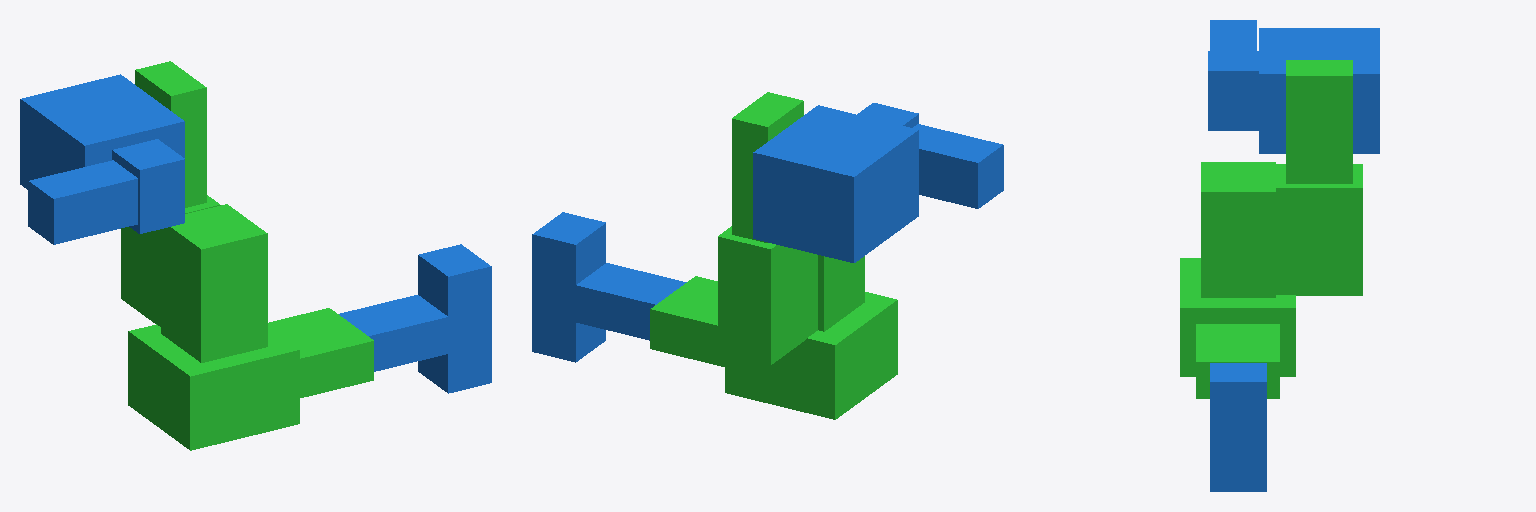
robot.urdf — robot:
<robot name = "robot">
    <link name="Link0">
        <inertial>
            <origin xyz="0 0 2" rpy="0 0 0"/>
            <mass value="0.20076288972879314" />
            <inertia ixx="100" ixy="0" ixz="0" iyy="100" iyz="0" izz="100" />
        </inertial>
        <visual>
            <origin xyz="0 0 2" rpy="0 0 0"/>
            <geometry>
                <box size="0.9125490004394449 0.46709046387190056 0.471005787567951" />
            </geometry>
            <material name="No Sensor">
                <color rgba="0.184 0.553 0.933 1.0"/>
            </material>
        </visual>
        <collision>
            <origin xyz="0 0 2" rpy="0 0 0"/>
            <geometry>
                <box size="0.9125490004394449 0.46709046387190056 0.471005787567951" />
            </geometry>
        </collision>
    </link>
    <joint name="Link0_Link1" type="revolute">
       <parent link="Link0"/>
       <child  link="Link1"/>
       <origin rpy="0 0 0" xyz="0.45627450021972243 0 2" />
       <axis xyz="1 0 0"/>
       <limit effort="0.0" lower="-3.14159" upper="3.14159" velocity="0.0"/>
    </joint>
    <link name="Link1">
        <inertial>
            <origin xyz="0.24622838620883442 0 0" rpy="0 0 0"/>
            <mass value="0.16684982083417946" />
            <inertia ixx="100" ixy="0" ixz="0" iyy="100" iyz="0" izz="100" />
        </inertial>
        <visual>
            <origin xyz="0.24622838620883442 0 0" rpy="0 0 0"/>
            <geometry>
                <box size="0.49245677241766883 0.5145883170240357 0.6584119555984481" />
            </geometry>
            <material name="No Sensor">
                <color rgba="0.184 0.553 0.933 1.0"/>
            </material>
        </visual>
        <collision>
            <origin xyz="0.24622838620883442 0 0" rpy="0 0 0"/>
            <geometry>
                <box size="0.49245677241766883 0.5145883170240357 0.6584119555984481" />
            </geometry>
        </collision>
    </link>
    <joint name="Link1_Link2" type="revolute">
       <parent link="Link1"/>
       <child  link="Link2"/>
       <origin rpy="0 0 0" xyz="0.24622838620883442 0.25729415851201787 0.0" />
       <axis xyz="1 0 0"/>
       <limit effort="0.0" lower="-3.14159" upper="3.14159" velocity="0.0"/>
    </joint>
    <link name="Link2">
        <inertial>
            <origin xyz="0.0 0.598709777096351 0.0" rpy="0 0 0"/>
            <mass value="1.1398277739824194" />
            <inertia ixx="100" ixy="0" ixz="0" iyy="100" iyz="0" izz="100" />
        </inertial>
        <visual>
            <origin xyz="0.0 0.598709777096351 0.0" rpy="0 0 0"/>
            <geometry>
                <box size="1.0786954482179012 1.197419554192702 0.8824579967325411" />
            </geometry>
            <material name="No Sensor">
                <color rgba="0.184 0.553 0.933 1.0"/>
            </material>
        </visual>
        <collision>
            <origin xyz="0.0 0.598709777096351 0.0" rpy="0 0 0"/>
            <geometry>
                <box size="1.0786954482179012 1.197419554192702 0.8824579967325411" />
            </geometry>
        </collision>
    </link>
    <joint name="Link2_Link3" type="revolute">
       <parent link="Link2"/>
       <child  link="Link3"/>
       <origin rpy="0 0 0" xyz="0.5393477241089506 0.598709777096351 0.0" />
       <axis xyz="1 0 0"/>
       <limit effort="0.0" lower="-3.14159" upper="3.14159" velocity="0.0"/>
    </joint>
    <link name="Link3">
        <inertial>
            <origin xyz="0.19236956824011125 0.0 0.0" rpy="0 0 0"/>
            <mass value="0.30576621328559805" />
            <inertia ixx="100" ixy="0" ixz="0" iyy="100" iyz="0" izz="100" />
        </inertial>
        <visual>
            <origin xyz="0.19236956824011125 0.0 0.0" rpy="0 0 0"/>
            <geometry>
                <box size="0.3847391364802225 0.6699934526833755 1.1861853889098444" />
            </geometry>
            <material name="Sensor">
                <color rgba="0.239 0.875 0.282 1.0"/>
            </material>
        </visual>
        <collision>
            <origin xyz="0.19236956824011125 0.0 0.0" rpy="0 0 0"/>
            <geometry>
                <box size="0.3847391364802225 0.6699934526833755 1.1861853889098444" />
            </geometry>
        </collision>
    </link>
    <joint name="Link3_Link4" type="revolute">
       <parent link="Link3"/>
       <child  link="Link4"/>
       <origin rpy="0 0 0" xyz="0.19236956824011125 0.0 -0.5930926944549222" />
       <axis xyz="0 1 0"/>
       <limit effort="0.0" lower="-3.14159" upper="3.14159" velocity="0.0"/>
    </joint>
    <link name="Link4">
        <inertial>
            <origin xyz="0.0 0.0 -0.5925668236380905" rpy="0 0 0"/>
            <mass value="0.5877827830788648" />
            <inertia ixx="100" ixy="0" ixz="0" iyy="100" iyz="0" izz="100" />
        </inertial>
        <visual>
            <origin xyz="0.0 0.0 -0.5925668236380905" rpy="0 0 0"/>
            <geometry>
                <box size="0.5705442753283897 0.8692809860477866 1.185133647276181" />
            </geometry>
            <material name="Sensor">
                <color rgba="0.239 0.875 0.282 1.0"/>
            </material>
        </visual>
        <collision>
            <origin xyz="0.0 0.0 -0.5925668236380905" rpy="0 0 0"/>
            <geometry>
                <box size="0.5705442753283897 0.8692809860477866 1.185133647276181" />
            </geometry>
        </collision>
    </link>
    <joint name="Link4_Link5" type="revolute">
       <parent link="Link4"/>
       <child  link="Link5"/>
       <origin rpy="0 0 0" xyz="0.0 -0.4346404930238933 -0.5925668236380905" />
       <axis xyz="1 0 0"/>
       <limit effort="0.0" lower="-3.14159" upper="3.14159" velocity="0.0"/>
    </joint>
    <link name="Link5">
        <inertial>
            <origin xyz="0.0 -0.37519952705842213 0.0" rpy="0 0 0"/>
            <mass value="0.6232589241955272" />
            <inertia ixx="100" ixy="0" ixz="0" iyy="100" iyz="0" izz="100" />
        </inertial>
        <visual>
            <origin xyz="0.0 -0.37519952705842213 0.0" rpy="0 0 0"/>
            <geometry>
                <box size="0.7106823360458484 0.7503990541168443 1.1686937097536678" />
            </geometry>
            <material name="Sensor">
                <color rgba="0.239 0.875 0.282 1.0"/>
            </material>
        </visual>
        <collision>
            <origin xyz="0.0 -0.37519952705842213 0.0" rpy="0 0 0"/>
            <geometry>
                <box size="0.7106823360458484 0.7503990541168443 1.1686937097536678" />
            </geometry>
        </collision>
    </link>
    <joint name="Link5_Link6" type="revolute">
       <parent link="Link5"/>
       <child  link="Link6"/>
       <origin rpy="0 0 0" xyz="0.0 -0.37519952705842213 -0.5843468548768339" />
       <axis xyz="1 0 0"/>
       <limit effort="0.0" lower="-3.14159" upper="3.14159" velocity="0.0"/>
    </joint>
    <link name="Link6">
        <inertial>
            <origin xyz="0.0 0.0 -0.381817265338922" rpy="0 0 0"/>
            <mass value="1.0401395883829938" />
            <inertia ixx="100" ixy="0" ixz="0" iyy="100" iyz="0" izz="100" />
        </inertial>
        <visual>
            <origin xyz="0.0 0.0 -0.381817265338922" rpy="0 0 0"/>
            <geometry>
                <box size="1.1798235710096754 1.154486873389572 0.763634530677844" />
            </geometry>
            <material name="Sensor">
                <color rgba="0.239 0.875 0.282 1.0"/>
            </material>
        </visual>
        <collision>
            <origin xyz="0.0 0.0 -0.381817265338922" rpy="0 0 0"/>
            <geometry>
                <box size="1.1798235710096754 1.154486873389572 0.763634530677844" />
            </geometry>
        </collision>
    </link>
    <joint name="Link6_Link7" type="revolute">
       <parent link="Link6"/>
       <child  link="Link7"/>
       <origin rpy="0 0 0" xyz="0.5899117855048377 0.0 -0.381817265338922" />
       <axis xyz="1 0 0"/>
       <limit effort="0.0" lower="-3.14159" upper="3.14159" velocity="0.0"/>
    </joint>
    <link name="Link7">
        <inertial>
            <origin xyz="0.4449056252976018 0.0 0.0" rpy="0 0 0"/>
            <mass value="0.30496472227048166" />
            <inertia ixx="100" ixy="0" ixz="0" iyy="100" iyz="0" izz="100" />
        </inertial>
        <visual>
            <origin xyz="0.4449056252976018 0.0 0.0" rpy="0 0 0"/>
            <geometry>
                <box size="0.8898112505952036 0.8390061758781516 0.40849481992782133" />
            </geometry>
            <material name="Sensor">
                <color rgba="0.239 0.875 0.282 1.0"/>
            </material>
        </visual>
        <collision>
            <origin xyz="0.4449056252976018 0.0 0.0" rpy="0 0 0"/>
            <geometry>
                <box size="0.8898112505952036 0.8390061758781516 0.40849481992782133" />
            </geometry>
        </collision>
    </link>
    <joint name="Link7_Link8" type="revolute">
       <parent link="Link7"/>
       <child  link="Link8"/>
       <origin rpy="0 0 0" xyz="0.8898112505952036 0.0 0.0" />
       <axis xyz="0 1 0"/>
       <limit effort="0.0" lower="-3.14159" upper="3.14159" velocity="0.0"/>
    </joint>
    <link name="Link8">
        <inertial>
            <origin xyz="0.43672450219073455 0.0 0.0" rpy="0 0 0"/>
            <mass value="0.18927067700970485" />
            <inertia ixx="100" ixy="0" ixz="0" iyy="100" iyz="0" izz="100" />
        </inertial>
        <visual>
            <origin xyz="0.43672450219073455 0.0 0.0" rpy="0 0 0"/>
            <geometry>
                <box size="0.8734490043814691 0.5691443228782305 0.3807355006001497" />
            </geometry>
            <material name="No Sensor">
                <color rgba="0.184 0.553 0.933 1.0"/>
            </material>
        </visual>
        <collision>
            <origin xyz="0.43672450219073455 0.0 0.0" rpy="0 0 0"/>
            <geometry>
                <box size="0.8734490043814691 0.5691443228782305 0.3807355006001497" />
            </geometry>
        </collision>
    </link>
    <joint name="Link8_Link9" type="revolute">
       <parent link="Link8"/>
       <child  link="Link9"/>
       <origin rpy="0 0 0" xyz="0.8734490043814691 0.0 0.0" />
       <axis xyz="0 0 1"/>
       <limit effort="0.0" lower="-3.14159" upper="3.14159" velocity="0.0"/>
    </joint>
    <link name="Link9">
        <inertial>
            <origin xyz="0.2325015022845221 0.0 0.0" rpy="0 0 0"/>
            <mass value="0.3149050004967134" />
            <inertia ixx="100" ixy="0" ixz="0" iyy="100" iyz="0" izz="100" />
        </inertial>
        <visual>
            <origin xyz="0.2325015022845221 0.0 0.0" rpy="0 0 0"/>
            <geometry>
                <box size="0.4650030045690442 0.5636602971825204 1.201451800776721" />
            </geometry>
            <material name="No Sensor">
                <color rgba="0.184 0.553 0.933 1.0"/>
            </material>
        </visual>
        <collision>
            <origin xyz="0.2325015022845221 0.0 0.0" rpy="0 0 0"/>
            <geometry>
                <box size="0.4650030045690442 0.5636602971825204 1.201451800776721" />
            </geometry>
        </collision>
    </link>
</robot>

--- What the picture shows (computed from the rendered views, not written in the file) ---
Views: 3 orthographic renders of the robot side by side, from view 1: azimuth 30°, elevation 25°; view 2: azimuth 150°, elevation 25°; view 3: azimuth 270°, elevation 25°.
Robot: robot — 10 links, 9 joints (9 revolute); root link Link0; default pose: every joint at zero.
Links seen in each view (by area): view 1: Link6, Link5, Link2, Link9, Link0, Link7, Link8, Link3, Link1, Link4; view 2: Link2, Link6, Link4, Link9, Link0, Link8, Link7, Link3, Link5, Link1; view 3: Link5, Link4, Link2, Link3, Link9, Link6, Link7, Link1, Link0.
Boxes of the visible links, x1=… form: Link6: x1=128, y1=324, x2=299, y2=450; Link5: x1=161, y1=204, x2=267, y2=362; Link2: x1=20, y1=74, x2=184, y2=189; Link9: x1=418, y1=244, x2=491, y2=393; Link0: x1=28, y1=160, x2=137, y2=244; Link7: x1=268, y1=308, x2=373, y2=397; Link8: x1=339, y1=295, x2=447, y2=371; Link3: x1=135, y1=61, x2=206, y2=207; Link1: x1=112, y1=139, x2=184, y2=233; Link4: x1=121, y1=195, x2=220, y2=326; Link2: x1=753, y1=105, x2=918, y2=262; Link6: x1=725, y1=292, x2=897, y2=419; Link4: x1=718, y1=226, x2=817, y2=364; Link9: x1=532, y1=212, x2=605, y2=362; Link0: x1=913, y1=124, x2=1003, y2=208; Link8: x1=576, y1=263, x2=686, y2=340; Link7: x1=650, y1=276, x2=724, y2=366; Link3: x1=732, y1=92, x2=803, y2=242; Link5: x1=818, y1=255, x2=864, y2=331; Link1: x1=857, y1=103, x2=918, y2=127; Link5: x1=1201, y1=162, x2=1275, y2=297; Link4: x1=1276, y1=164, x2=1362, y2=295; Link2: x1=1259, y1=28, x2=1379, y2=153; Link3: x1=1286, y1=60, x2=1352, y2=183; Link9: x1=1210, y1=363, x2=1266, y2=491; Link6: x1=1180, y1=258, x2=1295, y2=376; Link7: x1=1196, y1=324, x2=1279, y2=398; Link1: x1=1208, y1=51, x2=1258, y2=130; Link0: x1=1210, y1=20, x2=1256, y2=50.
Bounding box of the posed robot: 4.71 × 1.99 × 3.35 m (x, y, z).
Geometry: primitives only (box / cylinder / sphere), no mesh files.